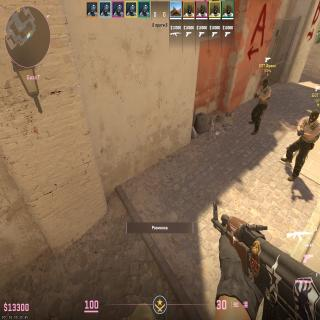T-Body: (287, 110, 320, 172), (252, 79, 271, 134)
T-Head: (309, 110, 319, 122), (262, 79, 270, 88)
